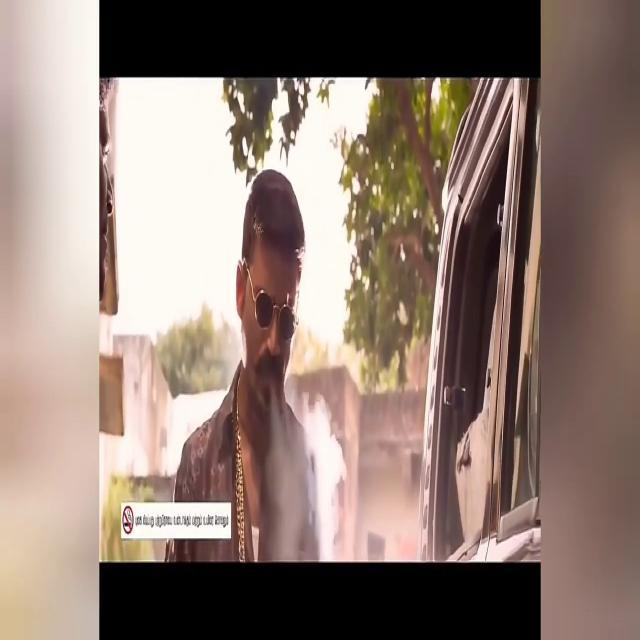smoking: (218, 180, 350, 550)
